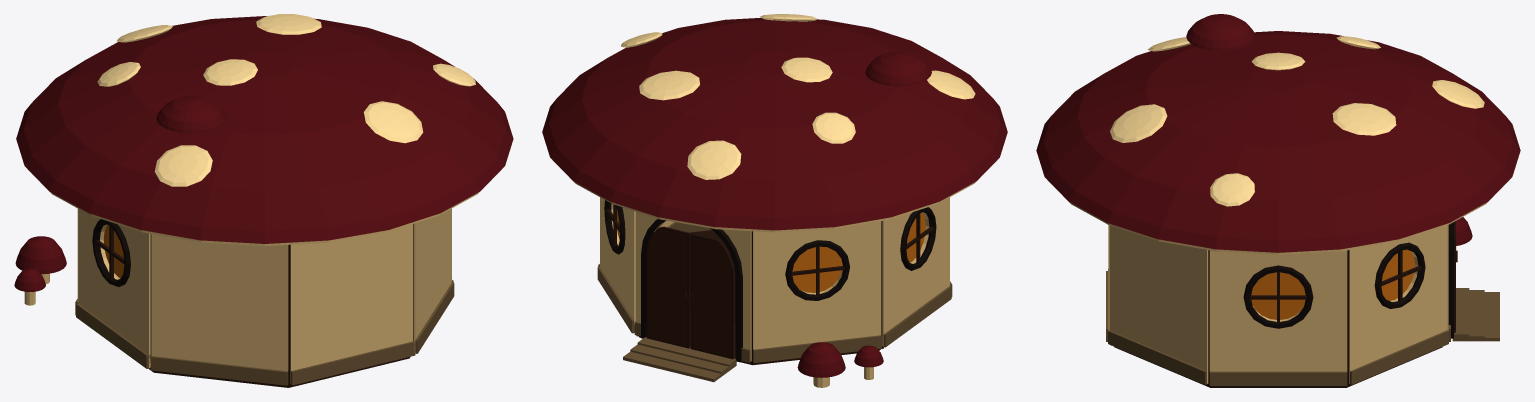
File: toadstool-cottage-visual.obj
The picture shows the model from 3 angles, left to right: view 1: azimuth 30°, elevation 25°; view 2: azimuth 150°, elevation 25°; view 3: azimuth 270°, elevation 25°; orthographic projection. The views are drawn at different scales.
Visible parts, largest first — view 1: MushroomCap, Wall_03, Wall_04, Wall_02, Wall_05, ChimneyCap, Plinth_3_0, RaisedSpot_3, Plinth_4_0, RaisedSpot_4, BabyCap_0, Plinth_2_0 (+12 smaller); view 2: MushroomCap, Wall_01, Wall_02, HouseDoorLeaf_R_Panel, HouseDoorLeaf_L_Panel, Wall_07, Wall_00, DoorFrame, ChimneyCap, RaisedSpot_0, WindowGlass_1, RaisedSpot_2 (+19 smaller); view 3: MushroomCap, Wall_06, Wall_05, Wall_07, Plinth_6_0, ChimneyCap, WindowGlass_6, RaisedSpot_2, RaisedSpot_4, Plinth_5_0, Plinth_7_0, WindowFrame_6_1 (+11 smaller).
Part boxes in pixels (left/top/right/bottom): MushroomCap: left=16, top=16, right=513, bottom=243; Wall_03: left=151, top=234, right=288, bottom=371; Wall_04: left=290, top=224, right=413, bottom=383; Wall_02: left=78, top=209, right=150, bottom=367; Wall_05: left=414, top=208, right=451, bottom=352; ChimneyCap: left=156, top=95, right=227, bottom=133; Plinth_3_0: left=150, top=356, right=288, bottom=385; RaisedSpot_3: left=154, top=145, right=212, bottom=186; Plinth_4_0: left=290, top=341, right=414, bottom=385; RaisedSpot_4: left=364, top=101, right=423, bottom=143; BabyCap_0: left=15, top=236, right=66, bottom=274; Plinth_2_0: left=76, top=303, right=150, bottom=368; MushroomCap: left=542, top=18, right=1007, bottom=230; Wall_01: left=753, top=221, right=881, bottom=349; Wall_02: left=882, top=197, right=949, bottom=346; HouseDoorLeaf_R_Panel: left=692, top=237, right=730, bottom=357; HouseDoorLeaf_L_Panel: left=648, top=229, right=686, bottom=346; Wall_07: left=600, top=197, right=635, bottom=324; Wall_00: left=636, top=212, right=751, bottom=360; DoorFrame: left=641, top=219, right=742, bottom=362; ChimneyCap: left=865, top=50, right=931, bottom=86; RaisedSpot_0: left=687, top=140, right=741, bottom=179; WindowGlass_1: left=792, top=246, right=842, bottom=292; RaisedSpot_2: left=639, top=70, right=699, bottom=100; MushroomCap: left=1036, top=31, right=1520, bottom=252; Wall_06: left=1209, top=250, right=1347, bottom=371; Wall_05: left=1109, top=225, right=1208, bottom=383; Wall_07: left=1349, top=225, right=1447, bottom=383; Plinth_6_0: left=1209, top=371, right=1347, bottom=385; ChimneyCap: left=1186, top=14, right=1255, bottom=50; WindowGlass_6: left=1251, top=272, right=1305, bottom=319; RaisedSpot_2: left=1332, top=103, right=1396, bottom=135; RaisedSpot_4: left=1110, top=104, right=1167, bottom=142; Plinth_5_0: left=1108, top=330, right=1208, bottom=384; Plinth_7_0: left=1349, top=330, right=1448, bottom=384; WindowFrame_6_1: left=1243, top=265, right=1313, bottom=328.
Bounding box in the file's own units: 37.8 × 21.6 × 37.8.
